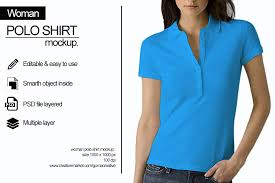C_polo shirt: (139, 20, 265, 173)
